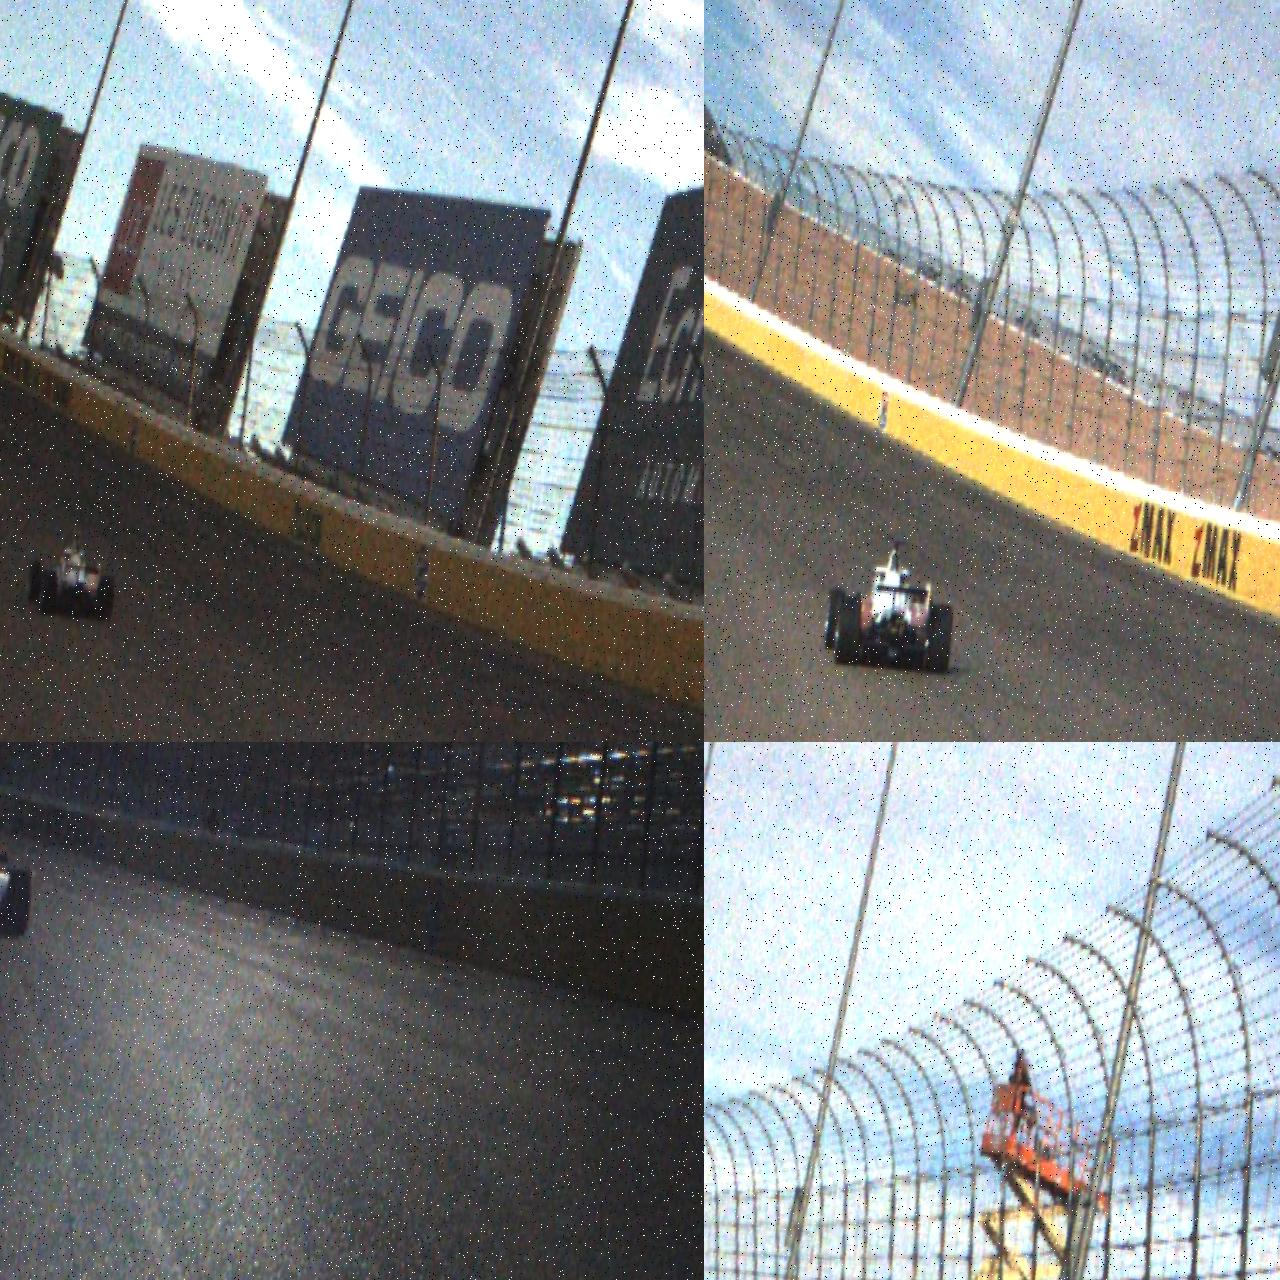AV: (820, 531, 961, 677), (24, 526, 120, 622), (0, 800, 40, 939)
Wheel: (925, 603, 955, 676), (832, 596, 862, 666), (6, 869, 34, 939), (822, 588, 848, 652), (38, 569, 59, 616), (95, 575, 116, 622), (26, 560, 45, 604)
